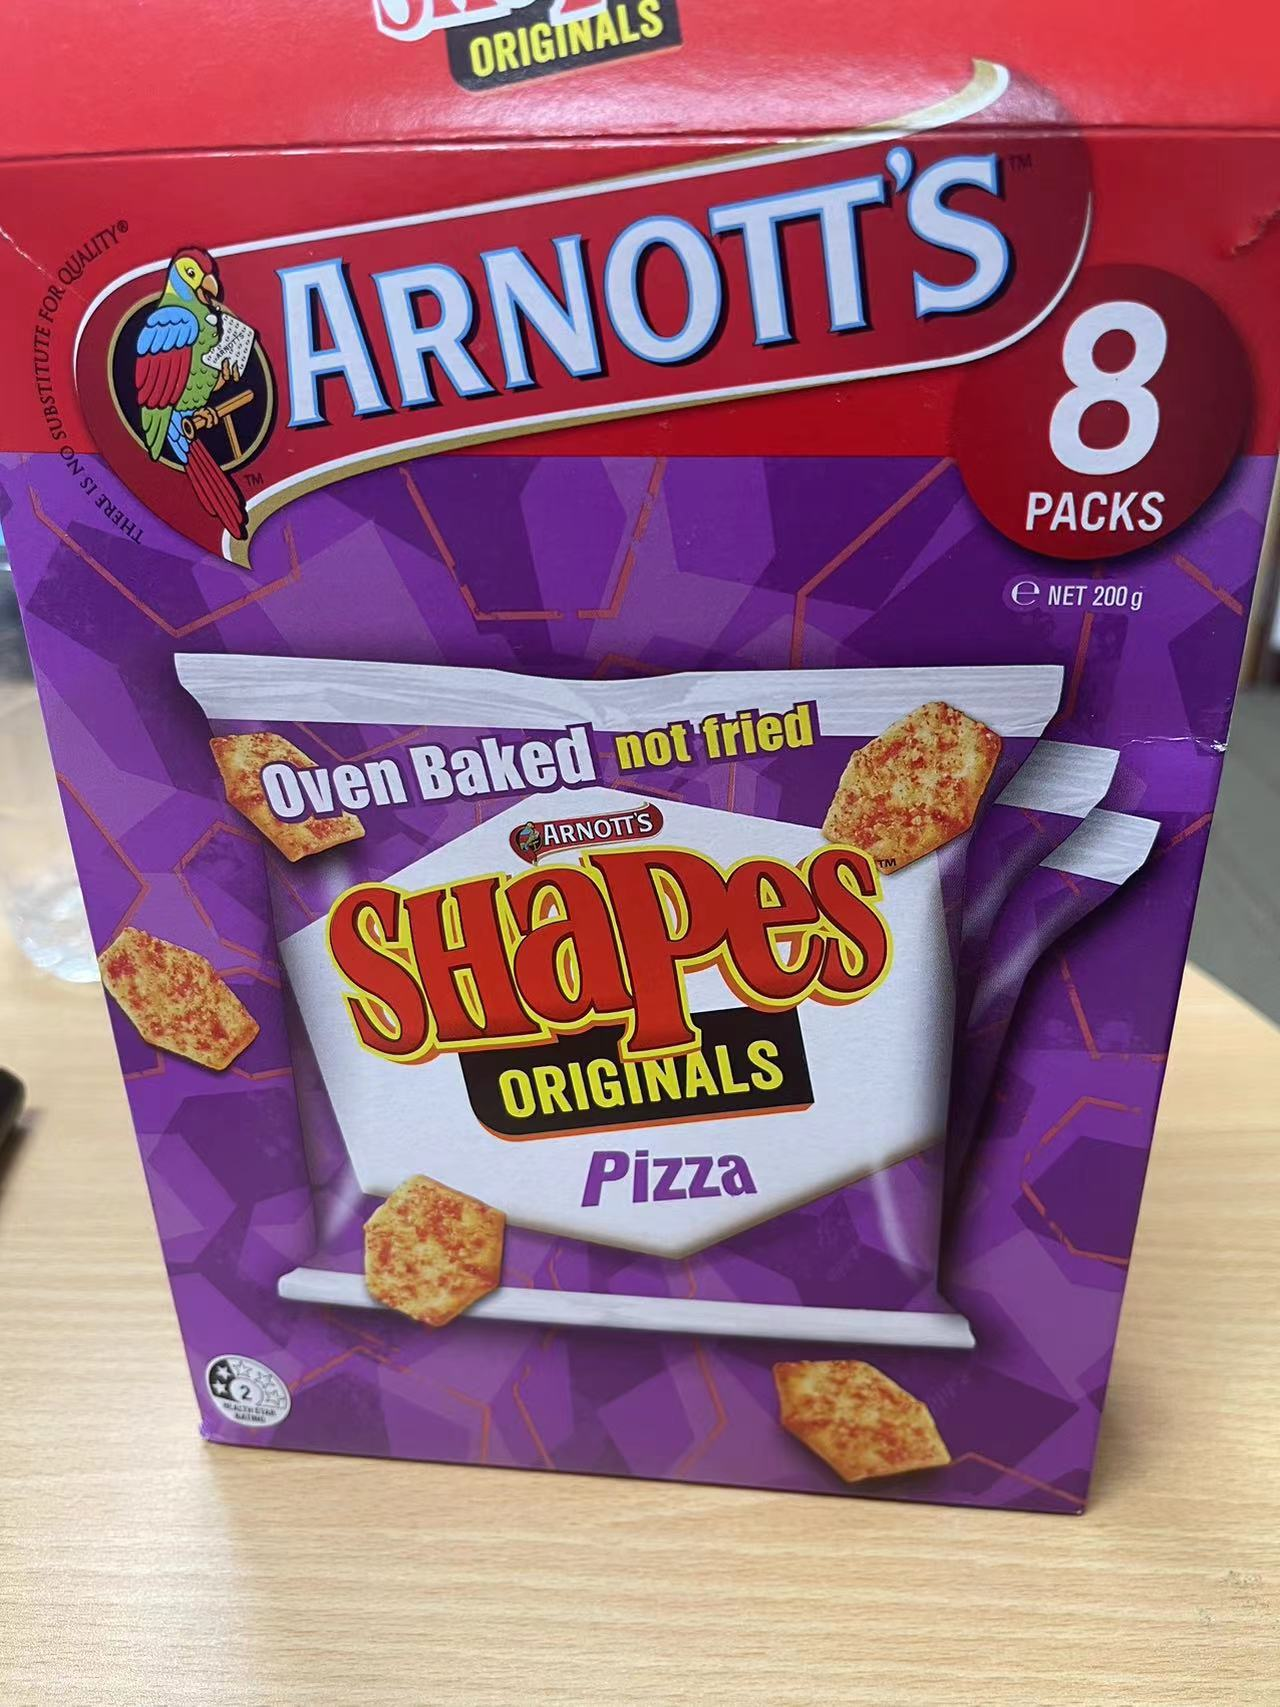Crackers_200-299g_NonHalal_NonHealthy: (22, 1, 1273, 1526)
